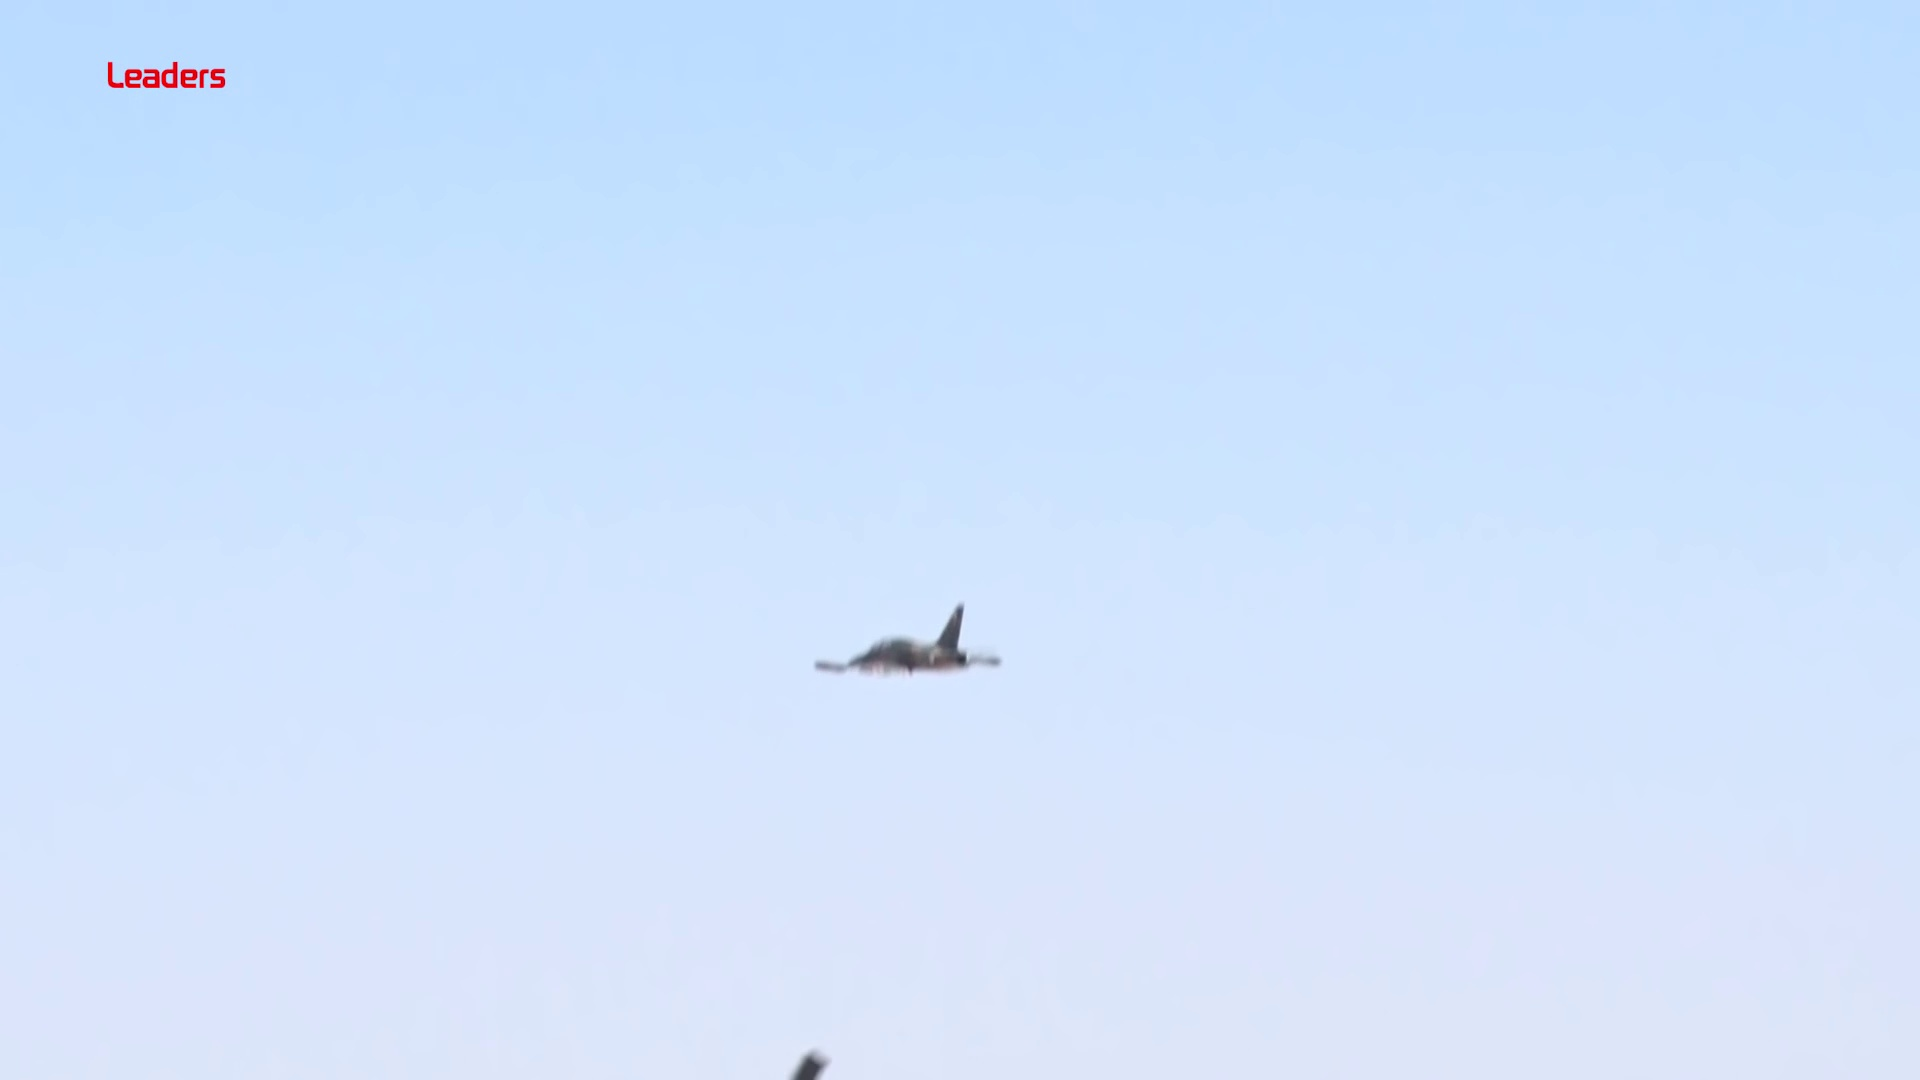Airplane: (808, 595, 1004, 698)
